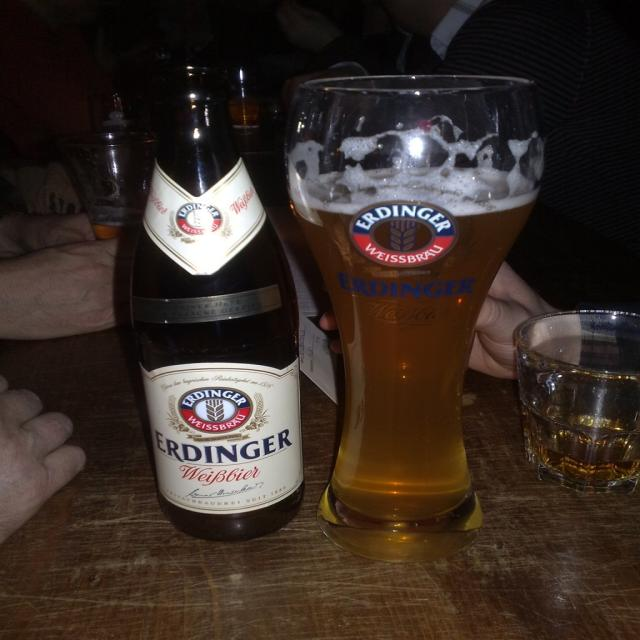erdinger: (313, 179, 501, 299), (151, 374, 303, 469), (165, 198, 240, 251)
